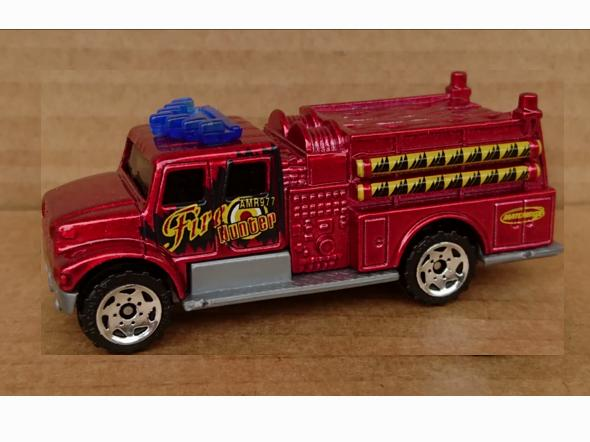toy-car: (40, 71, 563, 356)
